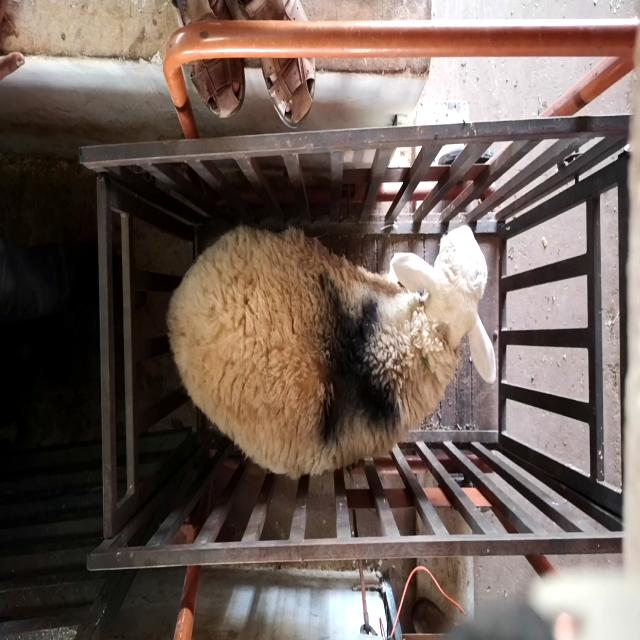sheep: (166, 225, 496, 477)
